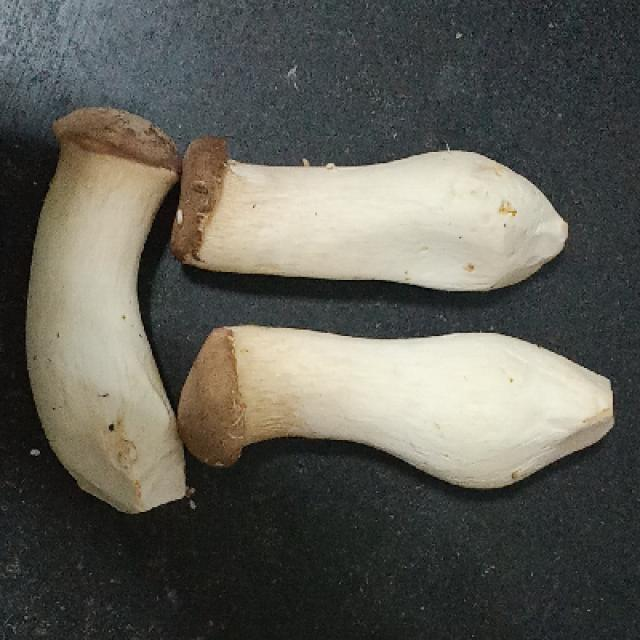Pleurotus eryngii: (184, 323, 615, 493), (32, 110, 188, 511), (174, 140, 569, 296)
